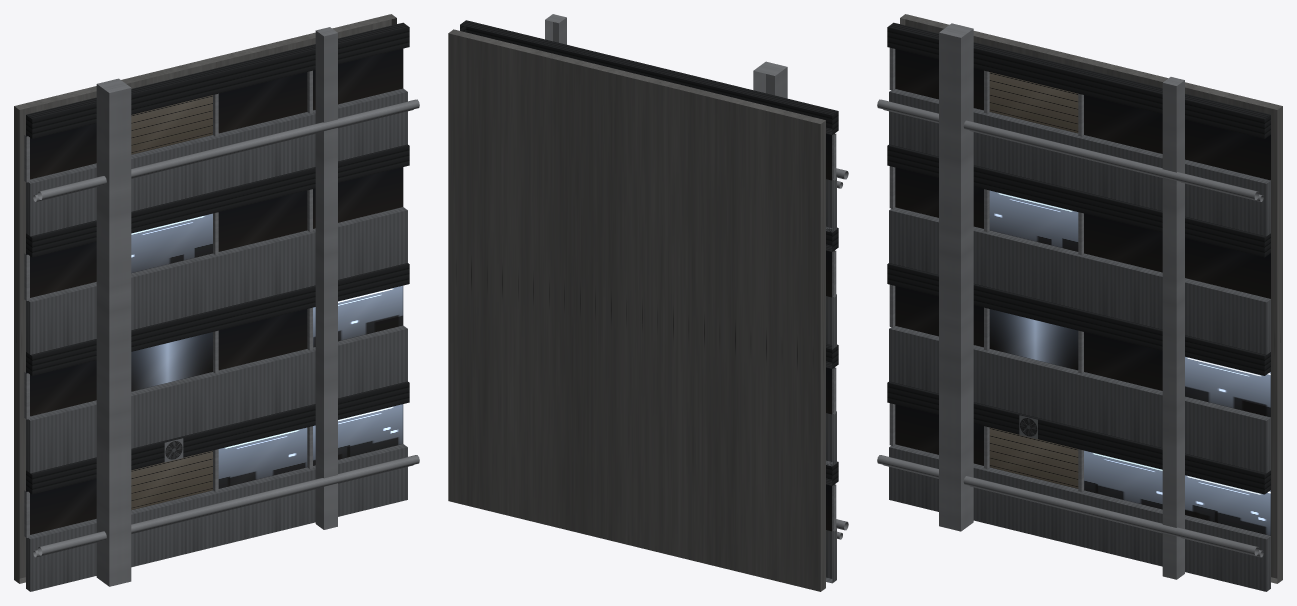
File: SM_INFD_FacadePanel_SRV.fbx
3 views of the same model, side by side, from view 1: azimuth 30°, elevation 25°; view 2: azimuth 150°, elevation 25°; view 3: azimuth 330°, elevation 25° (orthographic).
Visible parts, largest first — view 1: SM_INFD_FacadePanel_SRV; view 2: SM_INFD_FacadePanel_SRV; view 3: SM_INFD_FacadePanel_SRV.
Boxes of the visible parts, box(x1,y1,x2,y2) form: SM_INFD_FacadePanel_SRV: box(14, 14, 419, 591); SM_INFD_FacadePanel_SRV: box(448, 14, 848, 591); SM_INFD_FacadePanel_SRV: box(877, 14, 1282, 591).
Size of the model in its own units: 12.05 by 15 by 1.7.
